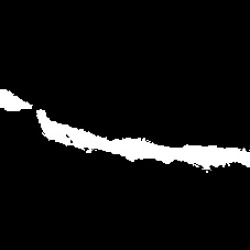crack: (1, 88, 248, 171)
